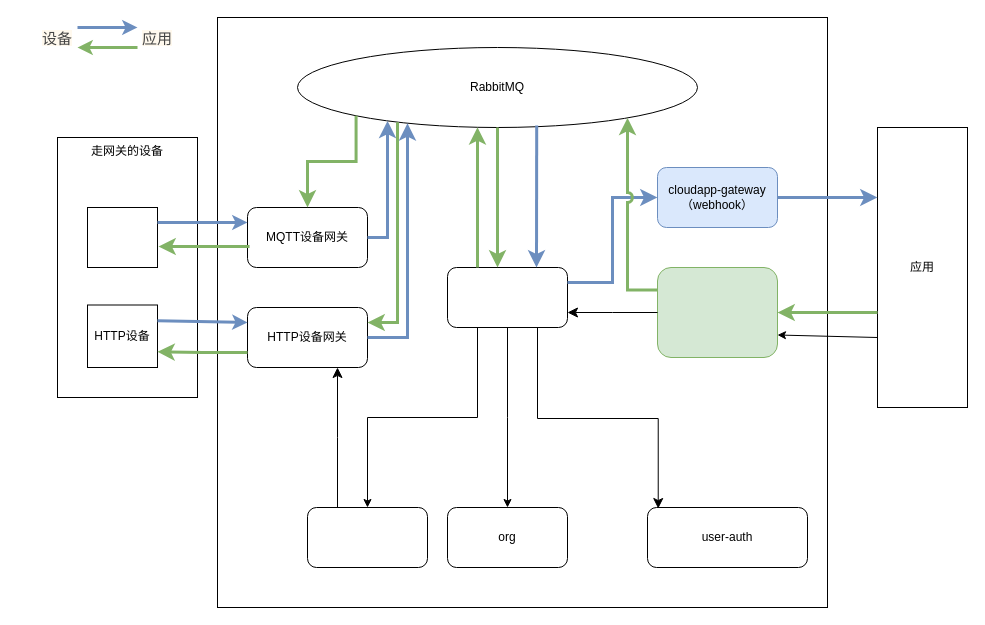
Image size: 985x625. Some labels were removed from this diagram. Here are the shapes that lost their labels. From the top down, the box of each, then its label:
(86, 206, 158, 268): MQTT设备
(446, 266, 568, 328): MessageRouter
(656, 266, 778, 358): cloudapp-router
(306, 506, 428, 568): device
